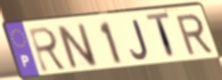1: (98, 19, 123, 66)
J: (129, 19, 150, 61)
N: (54, 22, 101, 70)
R: (27, 25, 70, 74), (174, 12, 215, 57)
T: (144, 11, 178, 62)
